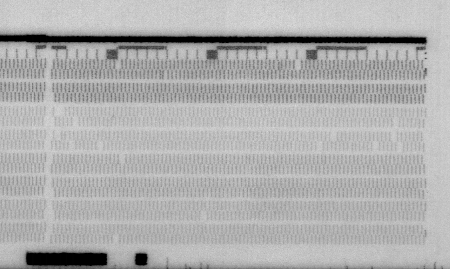Broken hole: (389, 119, 401, 143), (51, 106, 65, 119), (113, 59, 124, 73), (371, 140, 381, 154), (328, 131, 339, 143), (197, 212, 209, 223), (111, 234, 122, 246), (95, 141, 106, 153), (66, 140, 77, 152), (51, 130, 62, 142), (293, 60, 303, 72), (396, 142, 406, 154), (117, 153, 127, 165), (72, 116, 82, 127), (316, 142, 325, 152)
Oblique printing: (420, 224, 432, 237), (161, 70, 171, 82), (422, 68, 432, 80)
